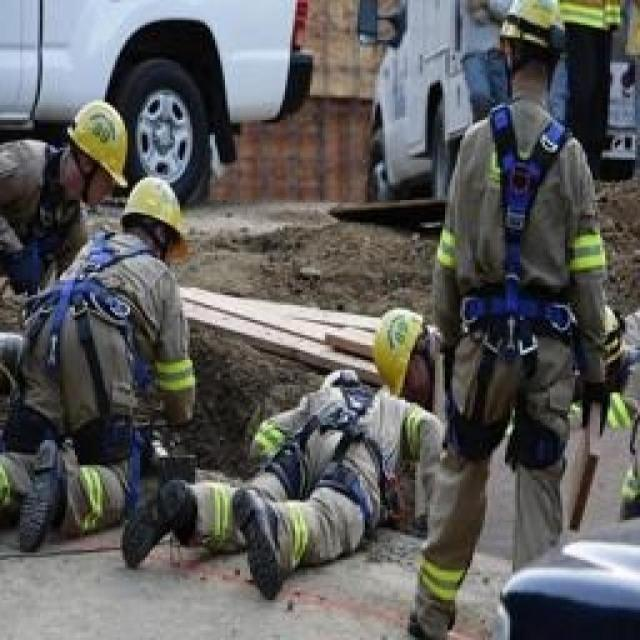Helmet: (437, 88, 615, 427), (46, 205, 210, 480), (264, 362, 406, 520), (0, 97, 65, 283), (459, 0, 595, 84), (110, 151, 202, 269), (57, 82, 145, 198), (365, 293, 431, 410)
